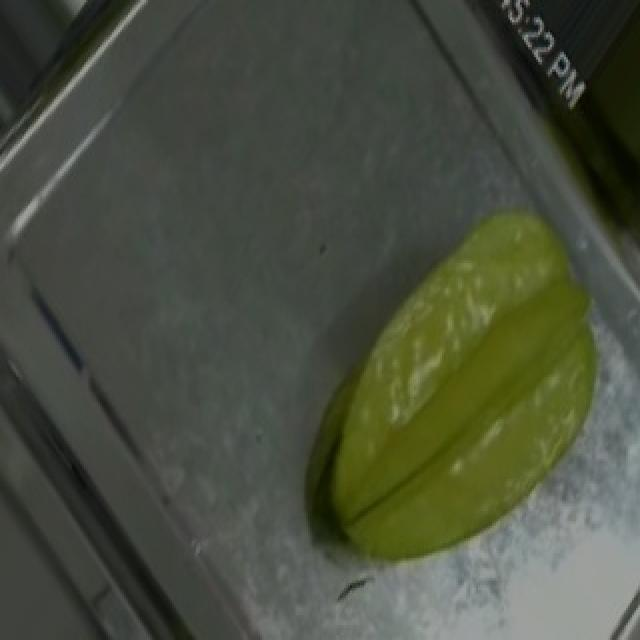fruit: (306, 171, 640, 548)
